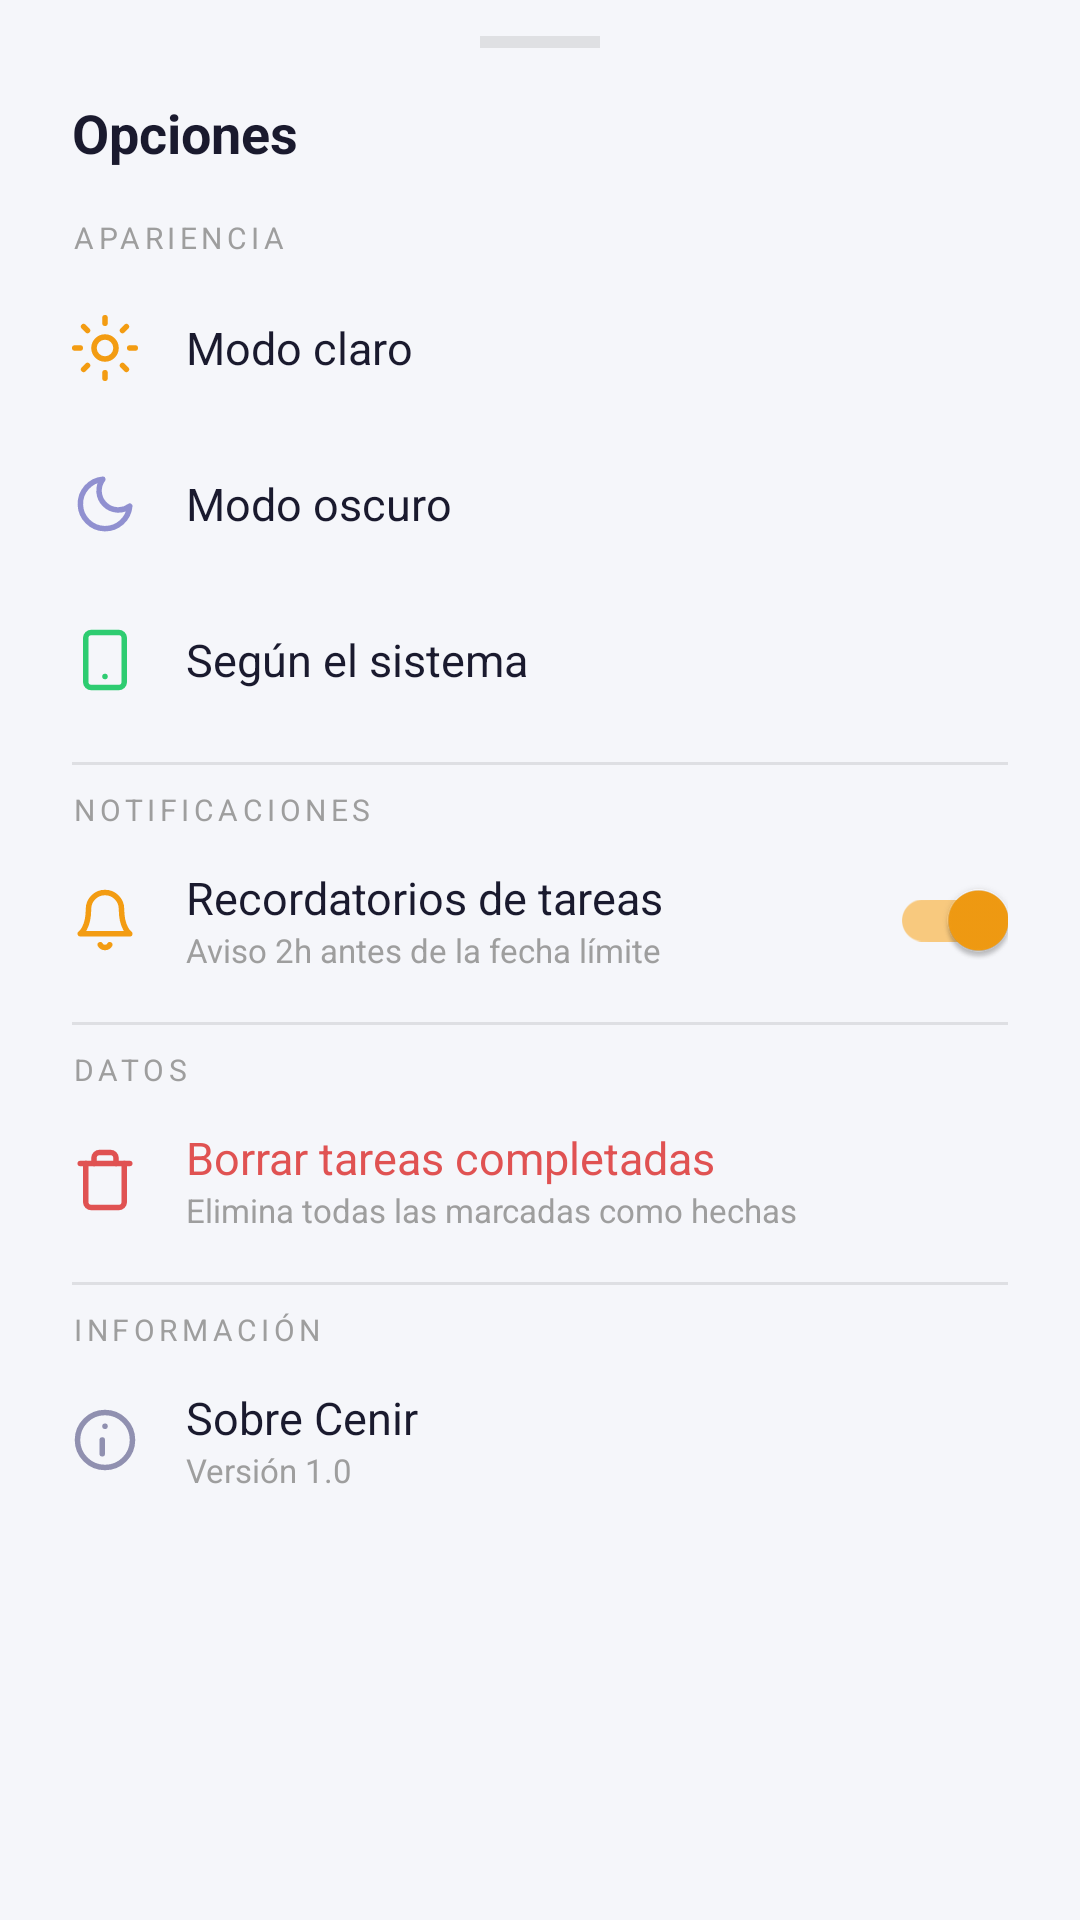

Point at icon controls on the screen. Image size 1080×1920, points as point (x, y).
bell: point (105, 920)
moon: point (105, 504)
phone: point (105, 660)
sun: point (105, 348)
trash: point (105, 1180)
